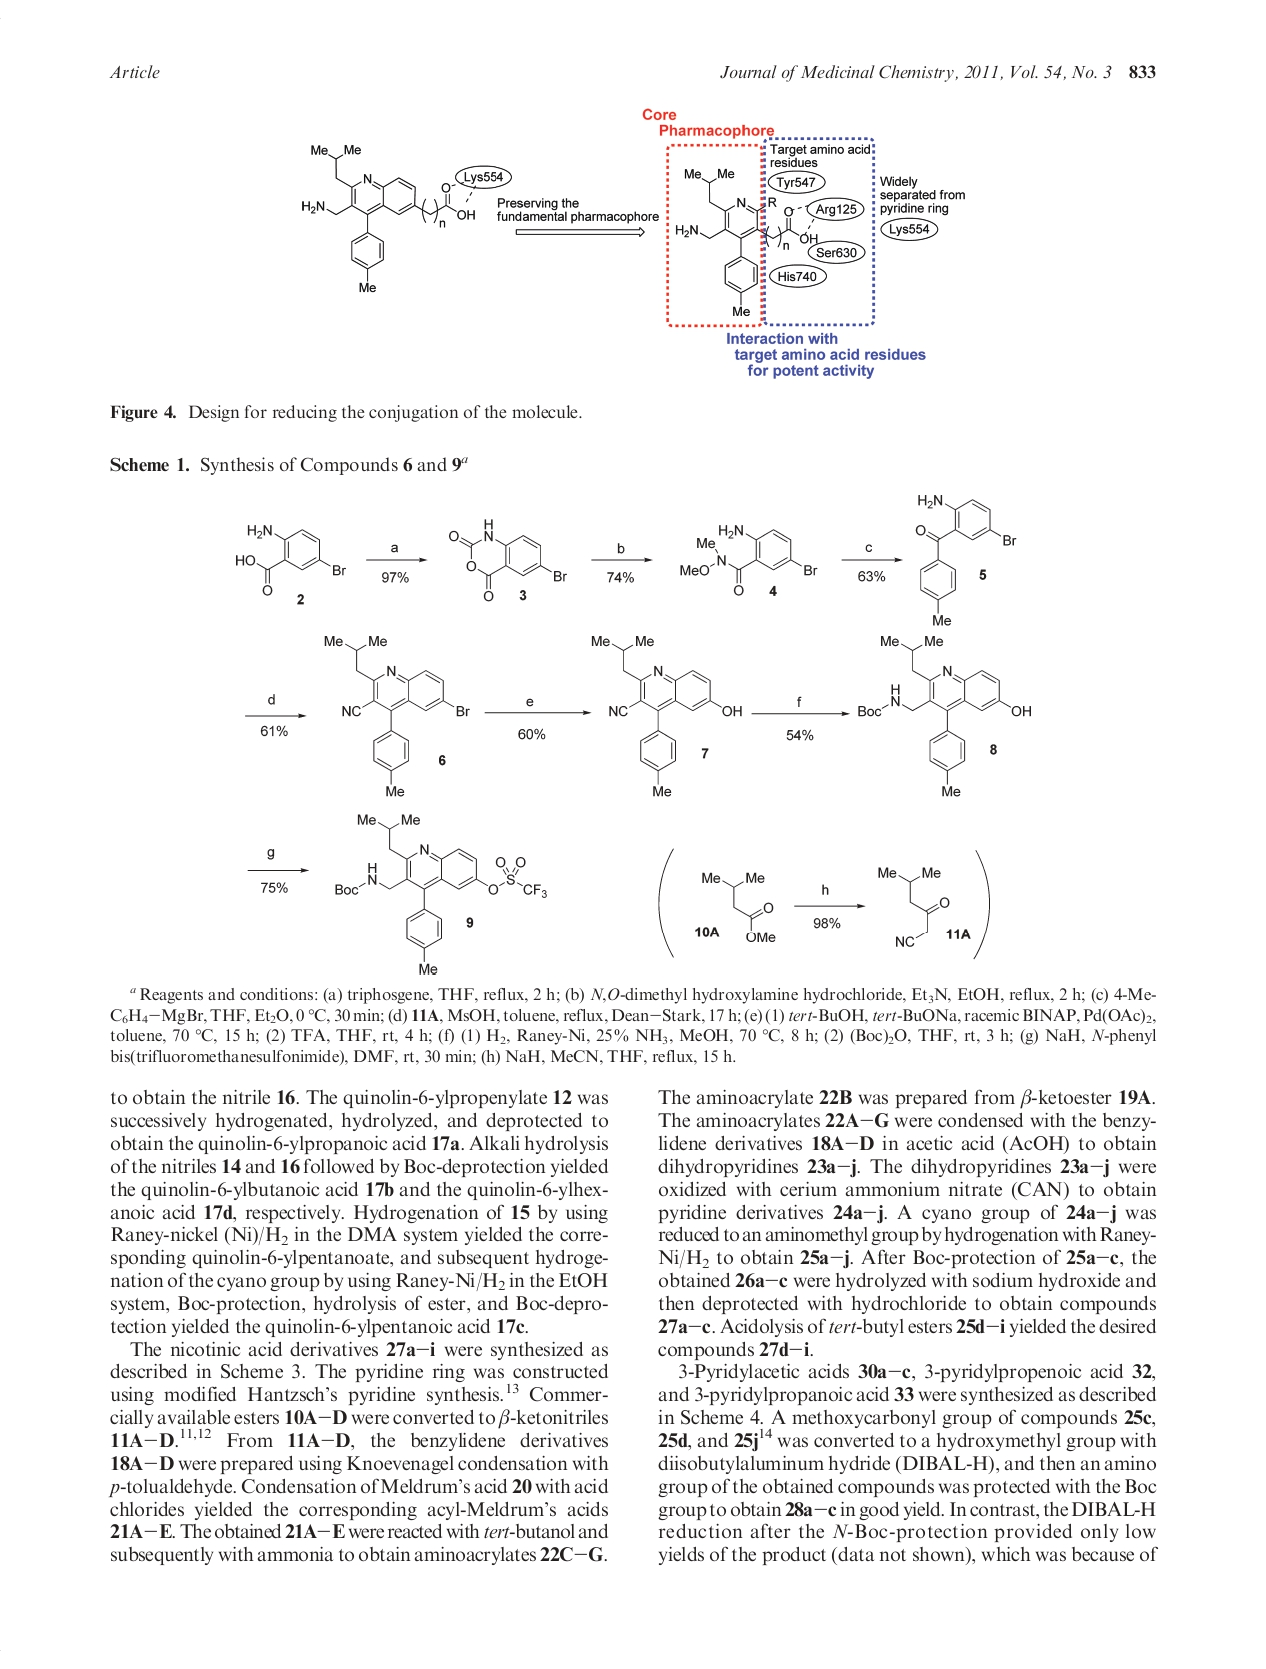exist_molecular: (332, 810, 551, 977), (301, 140, 515, 295), (854, 630, 1033, 798), (589, 632, 745, 799), (318, 630, 471, 801), (673, 164, 824, 319), (912, 491, 1017, 626), (676, 519, 821, 597), (445, 516, 570, 602), (233, 512, 348, 596), (872, 863, 949, 950), (699, 868, 783, 946)
